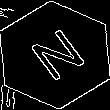N_SE: (21, 23, 89, 87)
